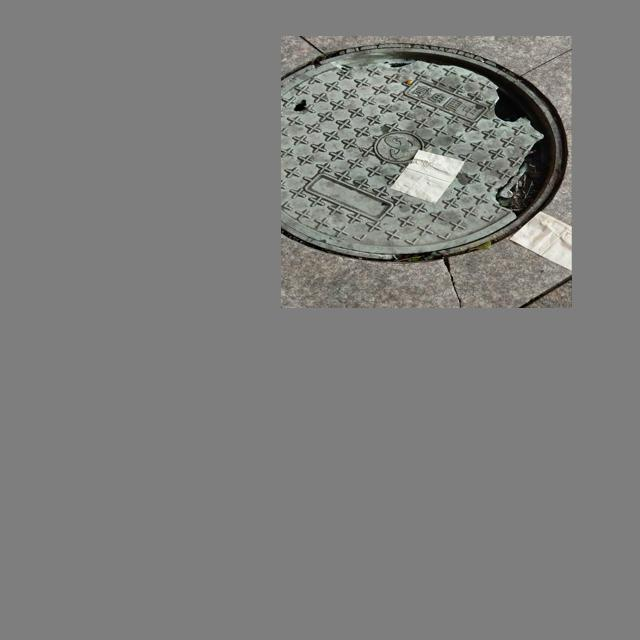broke: (286, 42, 566, 264)
